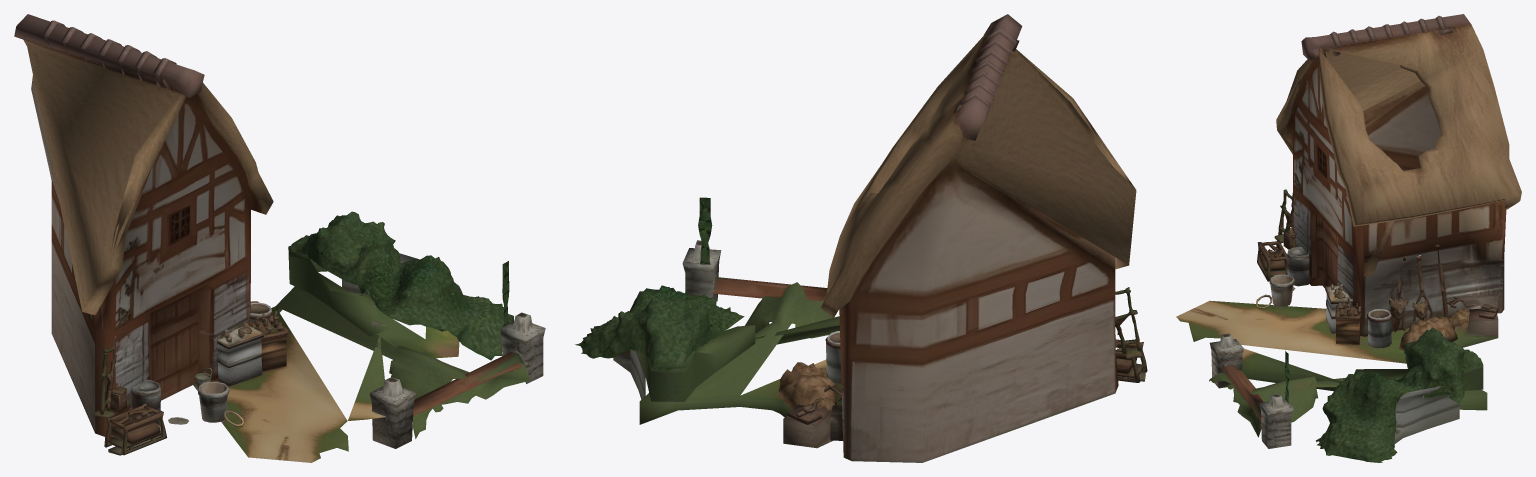
The model's file is slums.glb.
3 views of the same model, side by side, from view 1: azimuth 30°, elevation 25°; view 2: azimuth 150°, elevation 25°; view 3: azimuth 270°, elevation 25° (orthographic). The views are drawn at different scales.
Parts seen in each view (by area): view 1: tripo_node_89326304-a9ee-427c-9d4a-46bc830aac0d; view 2: tripo_node_89326304-a9ee-427c-9d4a-46bc830aac0d; view 3: tripo_node_89326304-a9ee-427c-9d4a-46bc830aac0d.
Boxes of the visible parts, box(x1,y1,x2,y2) form: tripo_node_89326304-a9ee-427c-9d4a-46bc830aac0d: box(14, 14, 545, 462); tripo_node_89326304-a9ee-427c-9d4a-46bc830aac0d: box(575, 14, 1147, 462); tripo_node_89326304-a9ee-427c-9d4a-46bc830aac0d: box(1176, 14, 1521, 462).
Bounding box in the file's own units: 6.71 × 5 × 5.39.
Materials: 1 (1 with a texture image).
